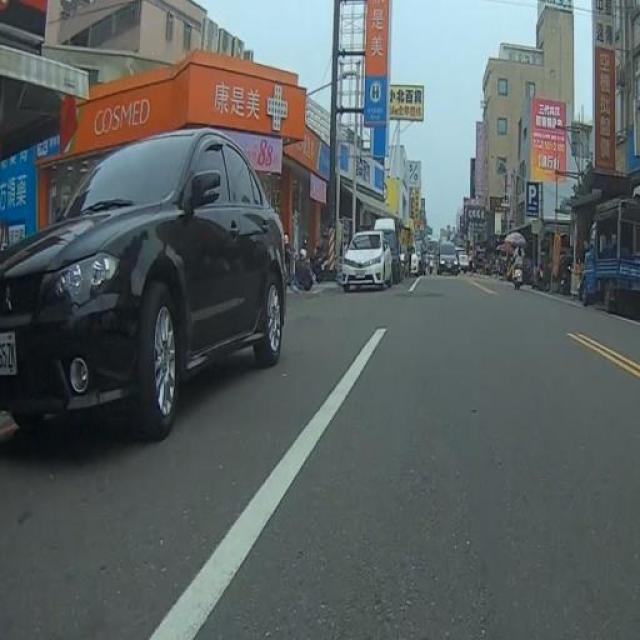Legalparking: (340, 218, 419, 291)
illegalparking: (0, 129, 285, 439)
